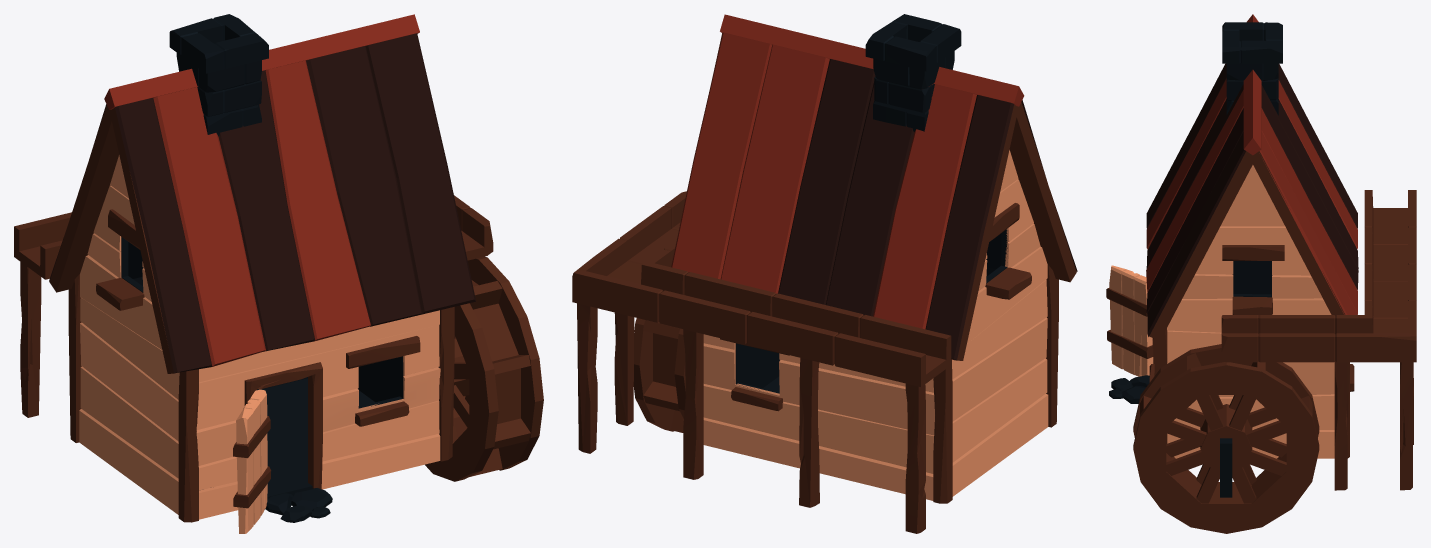
The model's file is Watermill.fbx.
The picture shows the model from 3 angles, left to right: view 1: azimuth 30°, elevation 25°; view 2: azimuth 150°, elevation 25°; view 3: azimuth 270°, elevation 25°; orthographic projection. The views are drawn at different scales.
Visible parts, largest first — view 1: Watermill; view 2: Watermill; view 3: Watermill.
Boxes of the visible parts, left/top/right/bottom form: Watermill: left=14, top=14, right=543, bottom=533; Watermill: left=572, top=14, right=1077, bottom=533; Watermill: left=1106, top=14, right=1416, bottom=533.
Size of the model in its own units: 176 by 210 by 149.
